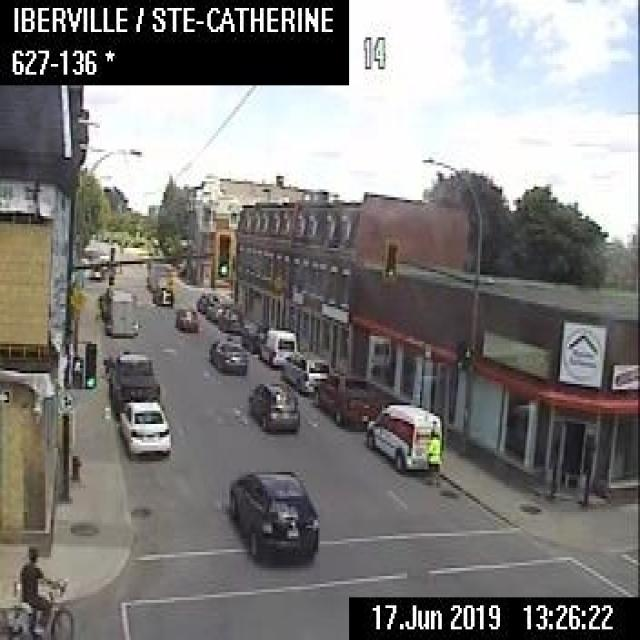cyclist: (0, 542, 75, 638)
pedestrian: (425, 427, 440, 486)
vehicle: (227, 464, 322, 563), (363, 402, 442, 472), (312, 370, 382, 428), (114, 397, 170, 459), (107, 352, 158, 408), (247, 380, 298, 431), (280, 348, 330, 394), (98, 285, 137, 336), (256, 326, 296, 367), (207, 334, 246, 371), (241, 317, 269, 352), (146, 258, 170, 290), (216, 304, 242, 329), (205, 296, 231, 320), (173, 305, 198, 329), (195, 288, 217, 312), (152, 278, 172, 303)
